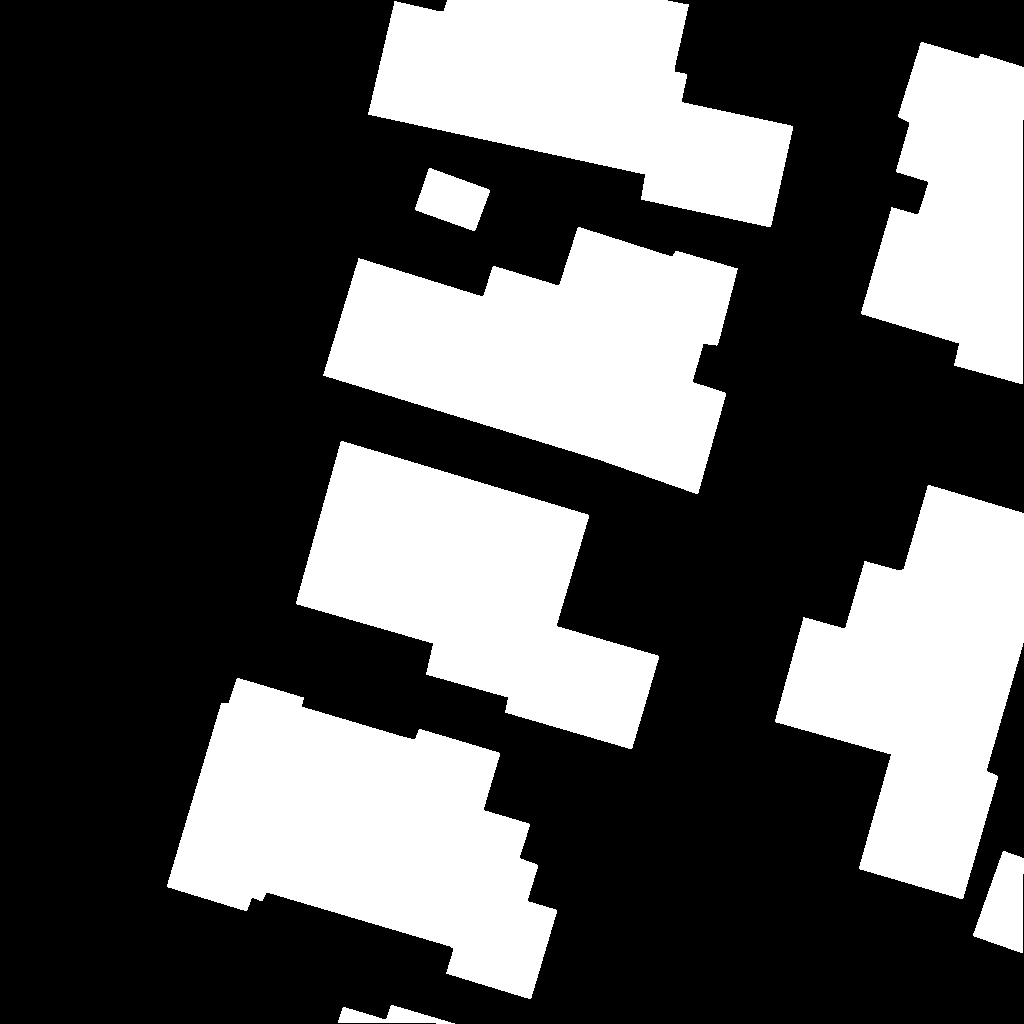building: (167, 678, 558, 1000), (296, 441, 660, 750), (323, 227, 739, 495), (775, 485, 1024, 900), (368, 0, 794, 228), (861, 42, 1024, 385), (973, 851, 1024, 954), (415, 168, 491, 232), (338, 1005, 456, 1024)
